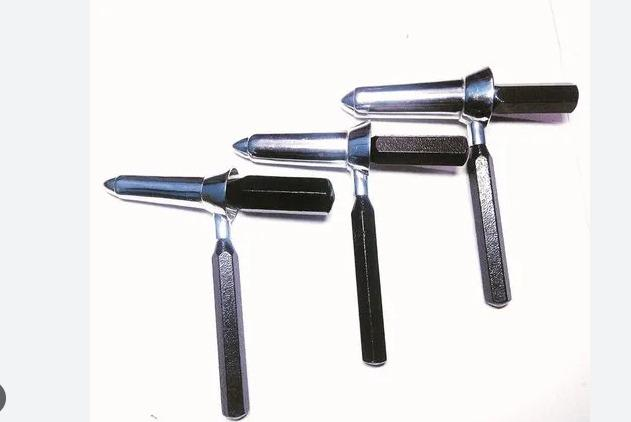Protoscope: (224, 118, 471, 374), (336, 63, 586, 311), (94, 168, 338, 419)
